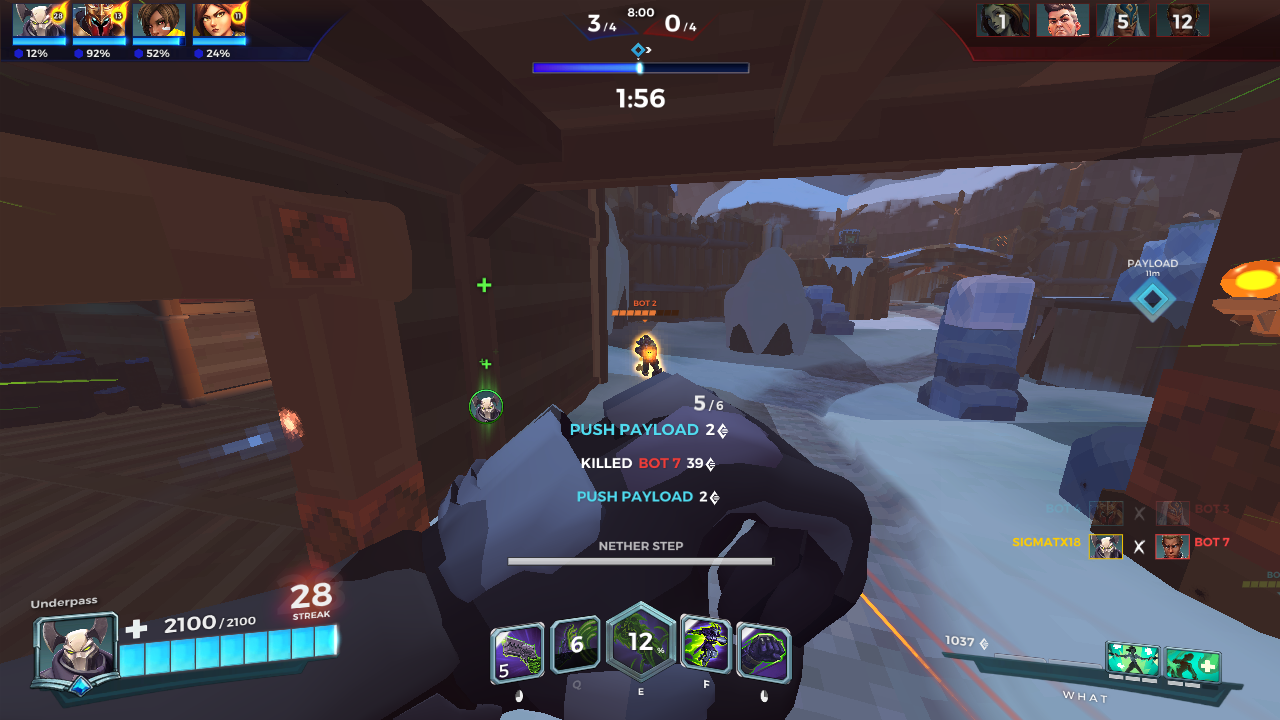model: (630, 330, 659, 377)
